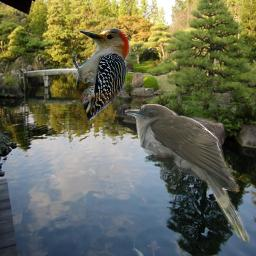Cuckoo: (125, 104, 250, 246)
Woodpecker: (65, 23, 143, 130)
